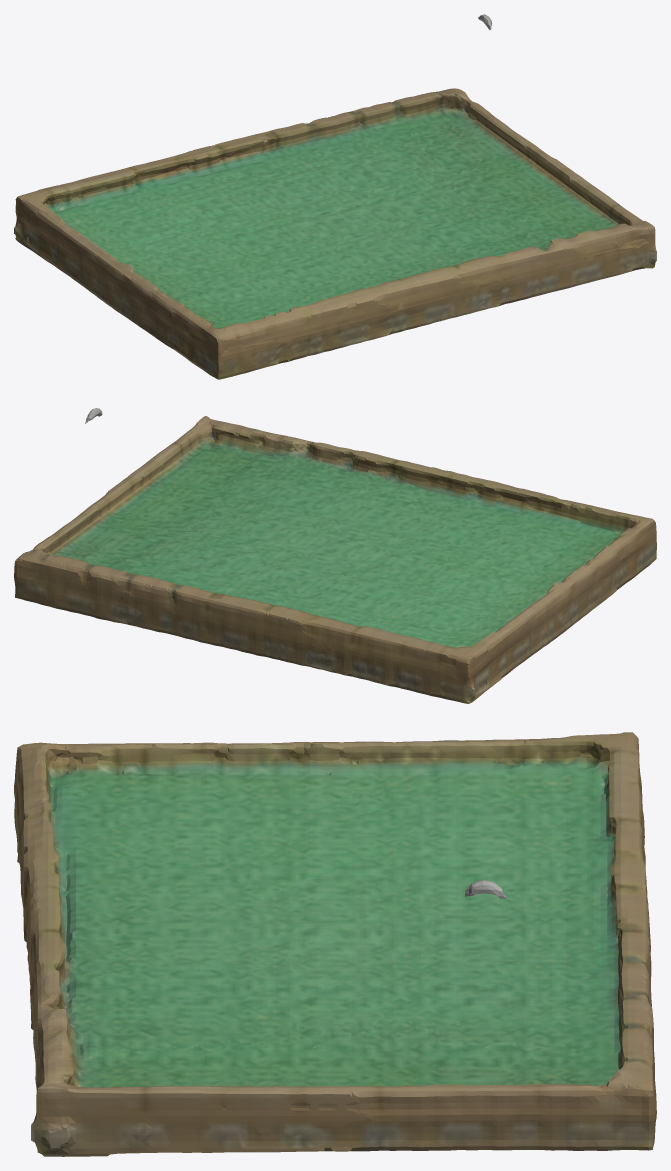
File: soil.glb
The picture shows the model from 3 angles, top to bottom: view 1: azimuth 30°, elevation 25°; view 2: azimuth 150°, elevation 25°; view 3: azimuth 270°, elevation 25°; orthographic projection. The views are drawn at different scales.
Visible parts, largest first — view 1: defaultobject; view 2: defaultobject; view 3: defaultobject.
Part boxes in pixels (x1,y1,x2,y2): defaultobject: (14,14,656,379); defaultobject: (14,408,656,703); defaultobject: (14,732,656,1156).
Bounding box in the file's own units: 2 × 0.6746 × 1.53.
